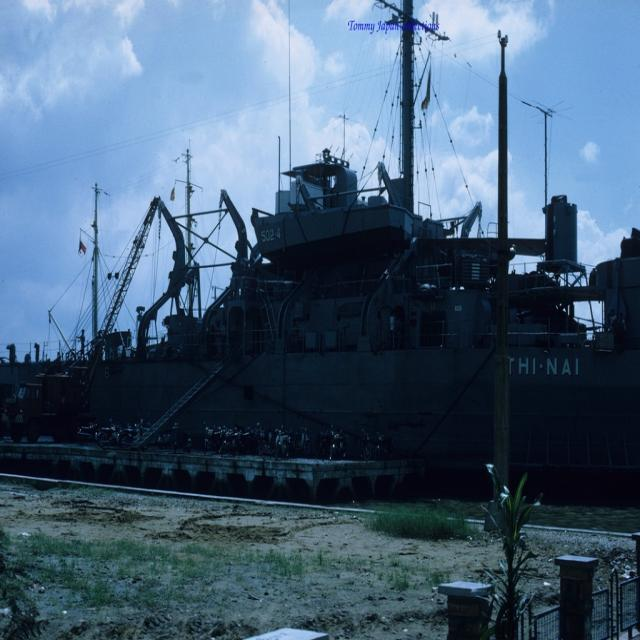Boat: (40, 16, 593, 506)
